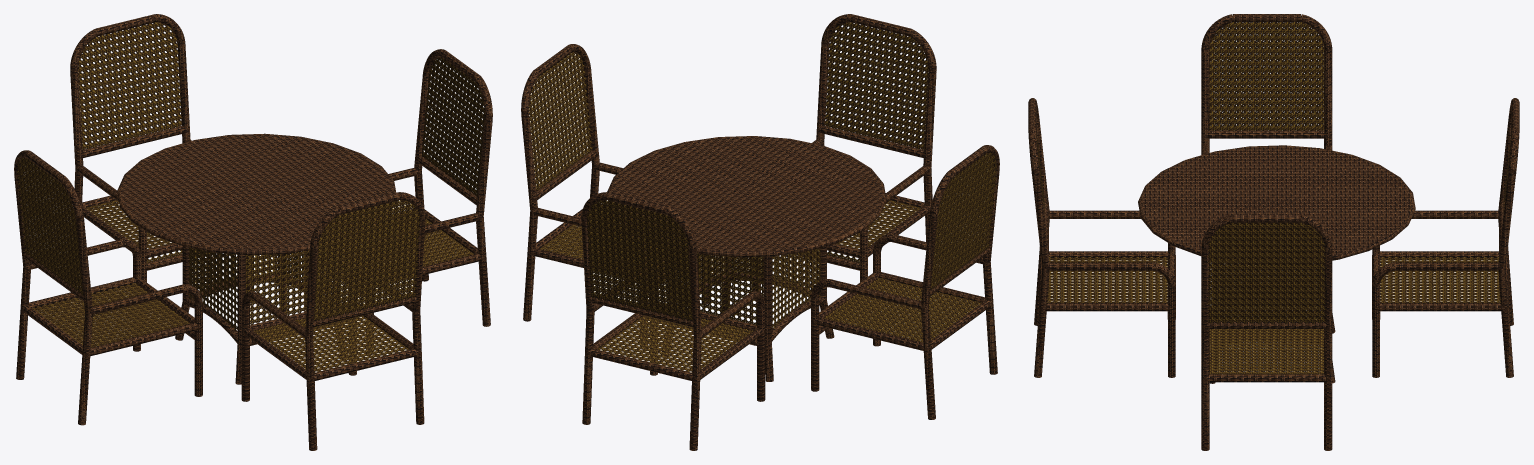
Rendered from garden furniture 7.dae.
The picture shows the model from 3 angles, left to right: view 1: azimuth 30°, elevation 25°; view 2: azimuth 150°, elevation 25°; view 3: azimuth 270°, elevation 25°; orthographic projection.
Parts seen in each view (by area): view 1: group_5, group_10 (×2), group_8 (×2), group_0 (×2), group_11 (×9), group_6 (×2), group_1 (×6), group_3, group_7 (×6), group_9 (×5), group_4; view 2: group_5, group_8 (×2), group_10 (×2), group_0 (×2), group_9 (×9), group_6 (×2), group_1 (×6), group_3, group_11 (×5), group_7 (×5), group_4; view 3: group_5, group_6 (×2), group_0, group_11 (×6), group_9 (×6), group_7 (×7), group_8, group_10, group_1 (×4).
Part boxes in pixels (<box>): group_5: <box>117,133,396,255</box>; group_10 (×2): <box>254,200,420,372</box>; group_8 (×2): <box>78,22,195,262</box>; group_0 (×2): <box>17,158,194,347</box>; group_11 (×9): <box>241,192,425,450</box>; group_6 (×2): <box>332,57,484,289</box>; group_1 (×6): <box>16,222,202,425</box>; group_3: <box>188,246,332,333</box>; group_7 (×6): <box>342,77,492,326</box>; group_9 (×5): <box>70,14,190,258</box>; group_4: <box>237,254,245,343</box>; group_5: <box>607,136,886,257</box>; group_8 (×2): <box>586,200,752,372</box>; group_10 (×2): <box>810,22,928,262</box>; group_0 (×2): <box>819,152,996,342</box>; group_9 (×9): <box>581,192,765,450</box>; group_6 (×2): <box>529,52,668,275</box>; group_1 (×6): <box>811,217,997,419</box>; group_3: <box>676,248,820,330</box>; group_11 (×5): <box>816,14,936,258</box>; group_7 (×5): <box>521,72,664,321</box>; group_4: <box>763,256,771,341</box>; group_5: <box>1138,145,1415,264</box>; group_6 (×2): <box>1208,222,1325,374</box>; group_0: <box>1209,22,1323,130</box>; group_11 (×6): <box>1032,176,1175,377</box>; group_9 (×6): <box>1372,176,1515,377</box>; group_7 (×7): <box>1201,214,1332,450</box>; group_8: <box>1380,257,1500,302</box>; group_10: <box>1047,257,1167,302</box>; group_1 (×4): <box>1201,14,1332,146</box>.
Bounding box in the file's own units: 69.72 × 70.9 × 37.93.
3 materials, 3 textured.
